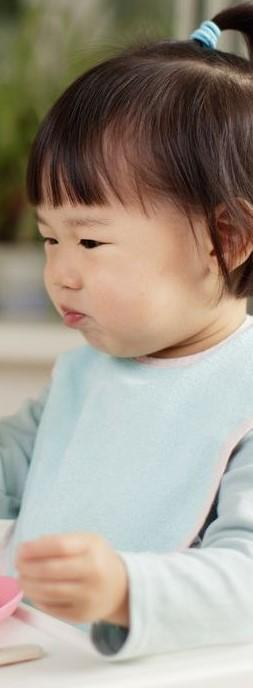Healthy: (17, 115, 211, 379)
